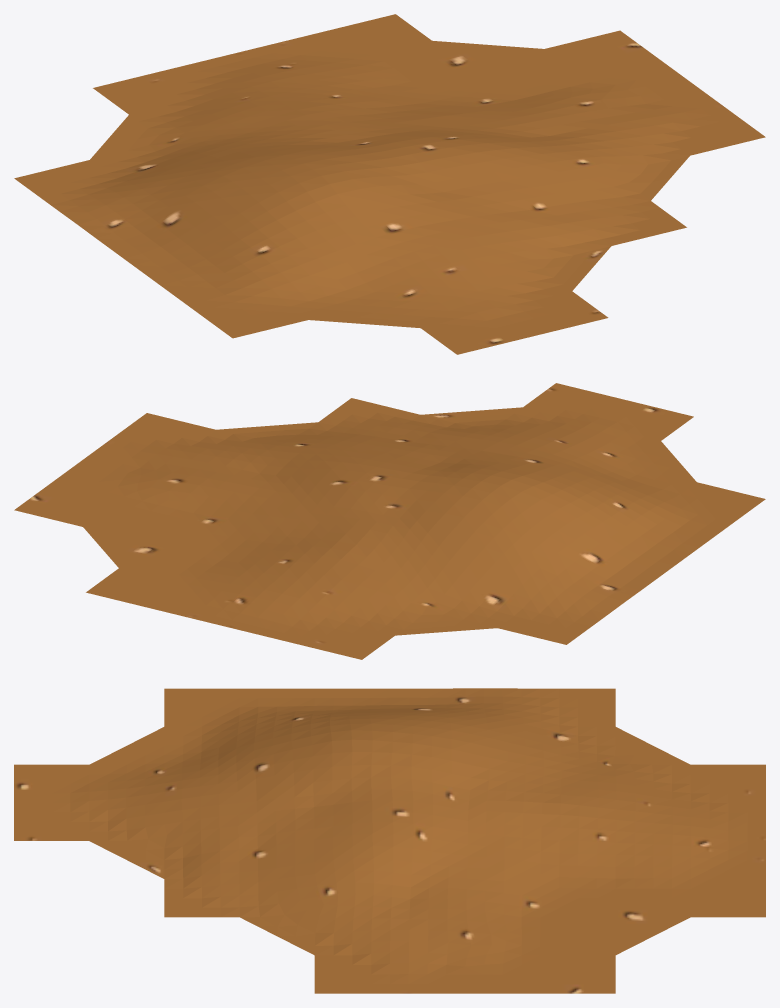
The model's file is Joule_Hills-flat_01.fbx.
3 renders of one model, top to bottom at view 1: azimuth 30°, elevation 25°; view 2: azimuth 150°, elevation 25°; view 3: azimuth 270°, elevation 25°, orthographic. The views are drawn at different scales.
Visible parts, largest first — view 1: Ground-Area1_hills.001; view 2: Ground-Area1_hills.001; view 3: Ground-Area1_hills.001.
Part boxes in pixels (x1,y1,x2,y2): Ground-Area1_hills.001: [14, 14, 765, 354]; Ground-Area1_hills.001: [14, 383, 765, 659]; Ground-Area1_hills.001: [14, 688, 765, 993].
Bounding box in the file's own units: 6400 × 428 × 6667.
